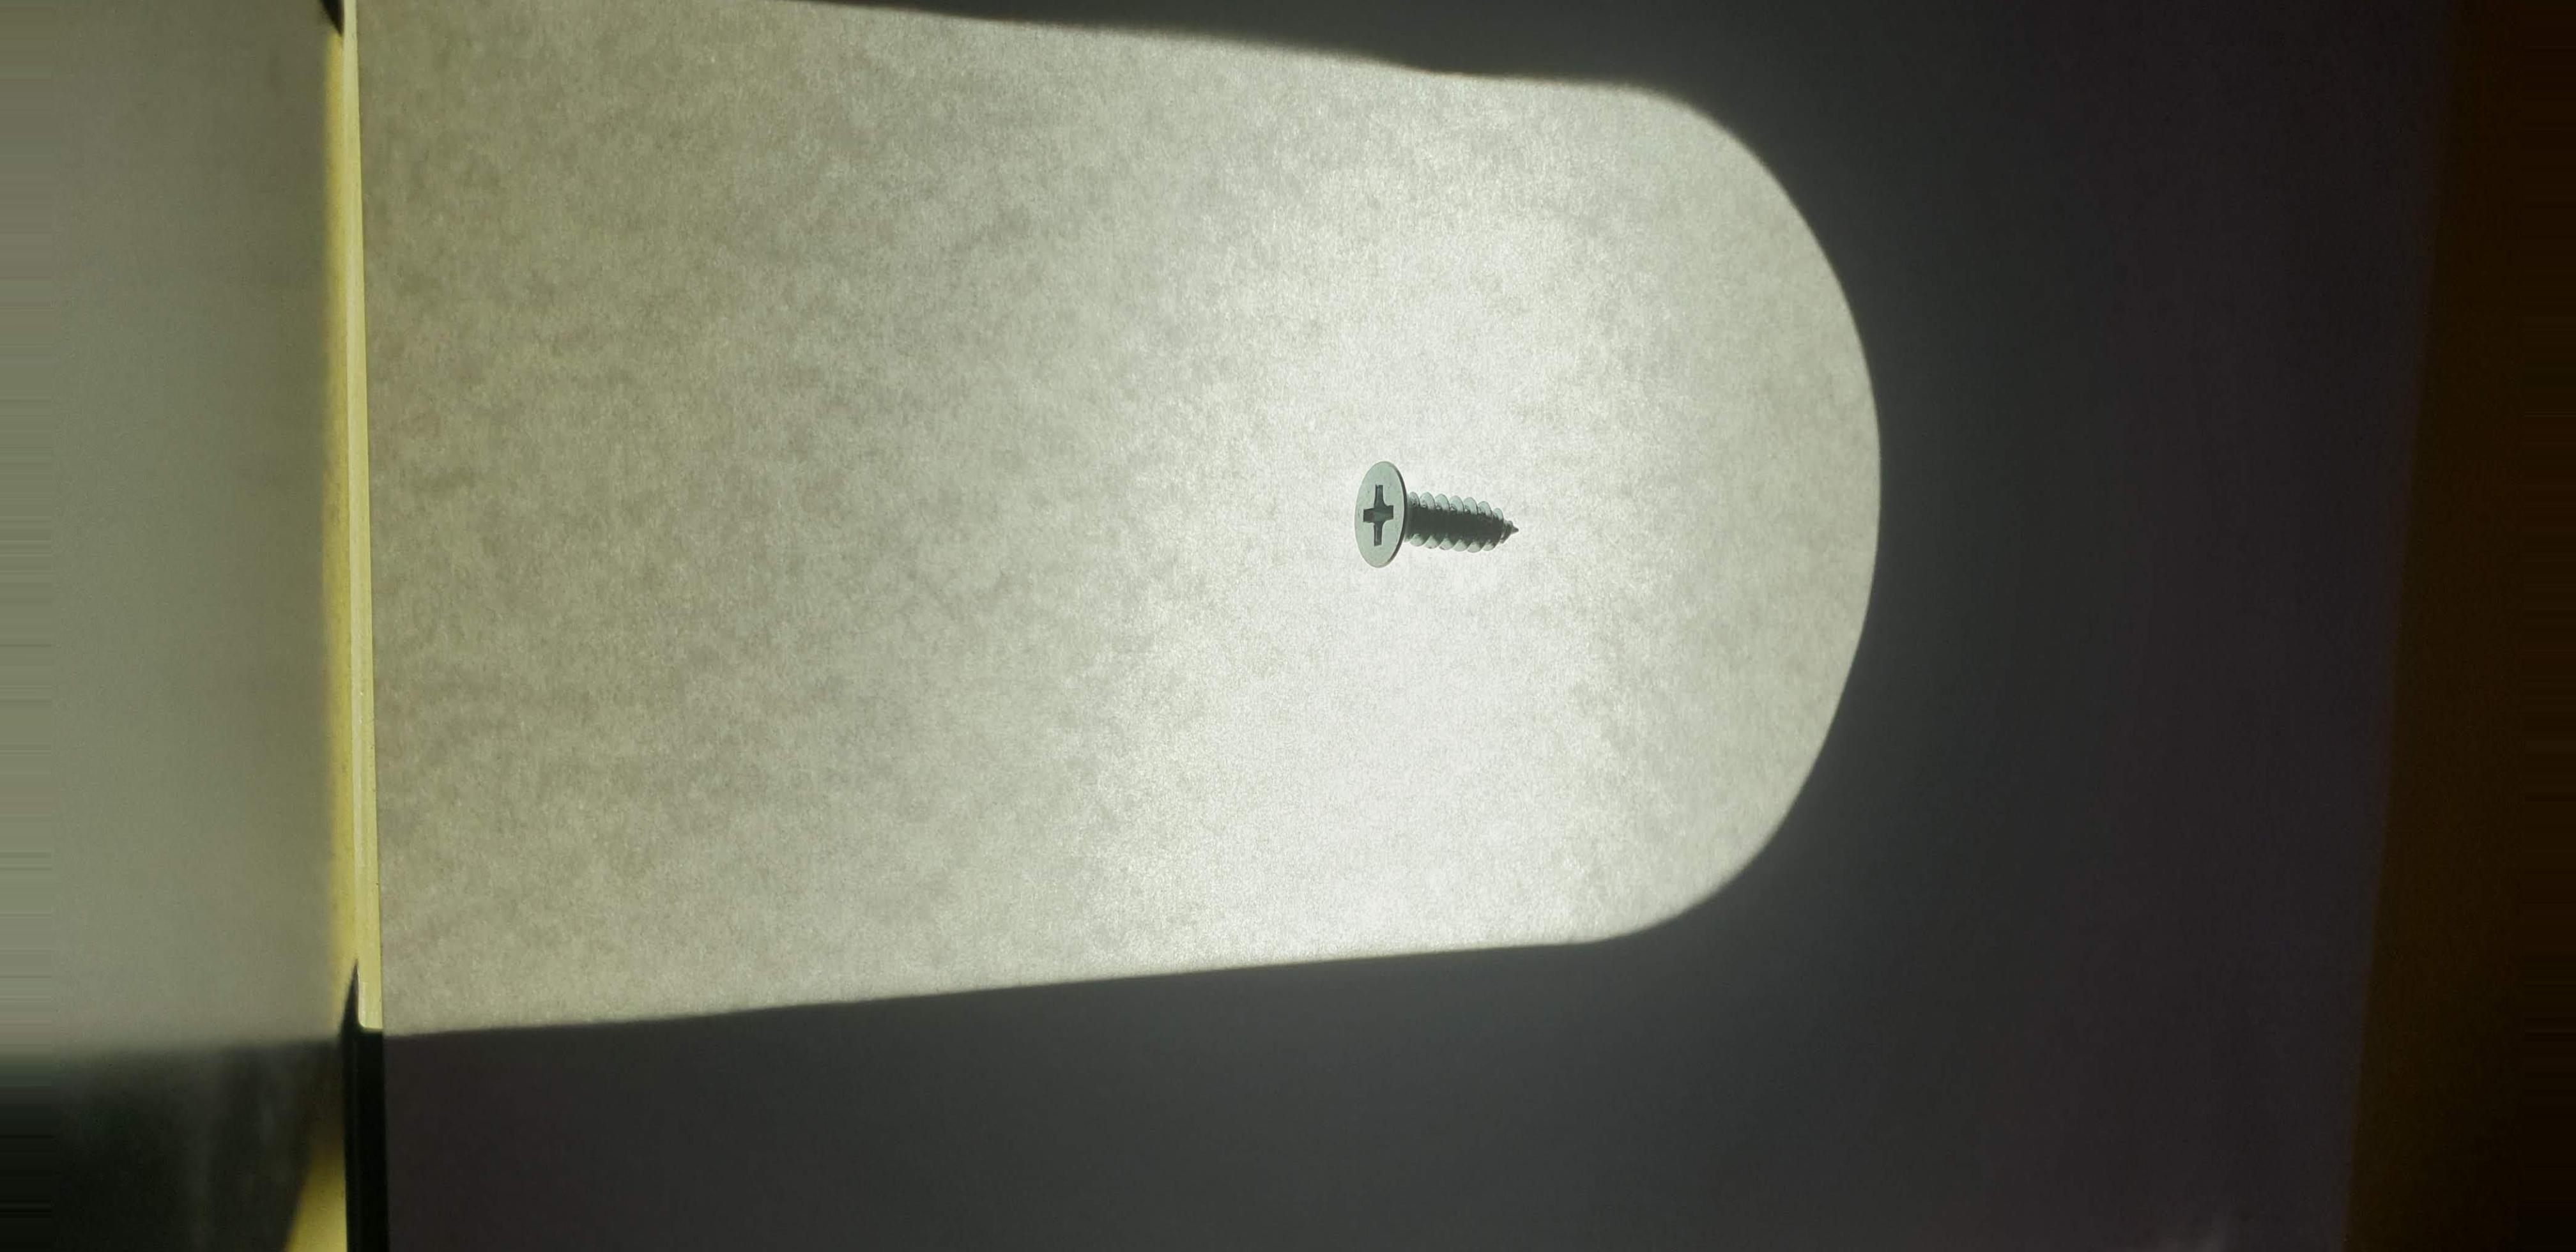S003: (1318, 435, 1575, 596)
